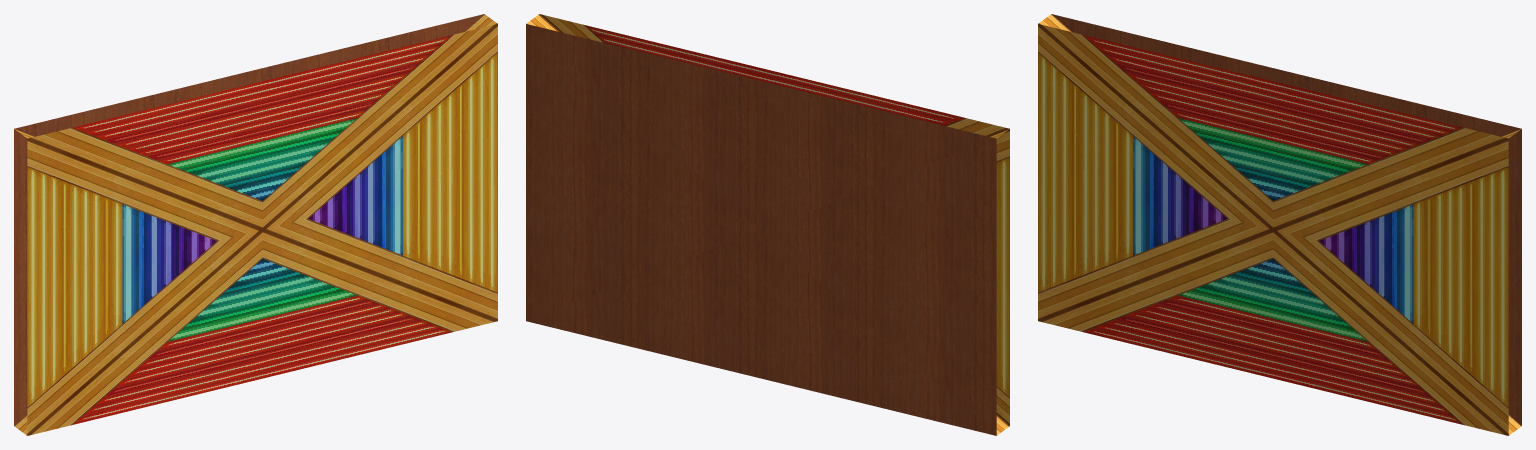
Rendered from casinodoor.obj.
3 renders of one model, left to right at view 1: azimuth 30°, elevation 25°; view 2: azimuth 150°, elevation 25°; view 3: azimuth 330°, elevation 25°, orthographic.
Visible parts, largest first — view 1: Object_1, Object_4, Object_2, Object_3; view 2: Object_1, Object_4, Object_2, Object_3; view 3: Object_1, Object_3, Object_2, Object_4.
Boxes of the visible parts, box(x1,y1,x2,y2) form: Object_1: box(14, 14, 497, 229); Object_4: box(14, 129, 261, 435); Object_2: box(14, 230, 497, 435); Object_3: box(263, 14, 497, 320); Object_1: box(526, 14, 1009, 229); Object_4: box(762, 129, 1009, 435); Object_2: box(526, 230, 1009, 435); Object_3: box(526, 14, 760, 320); Object_1: box(1038, 14, 1521, 229); Object_3: box(1274, 129, 1521, 435); Object_2: box(1038, 230, 1521, 435); Object_4: box(1038, 15, 1272, 320).
Size of the model in its own units: 101 by 61 by 5.
